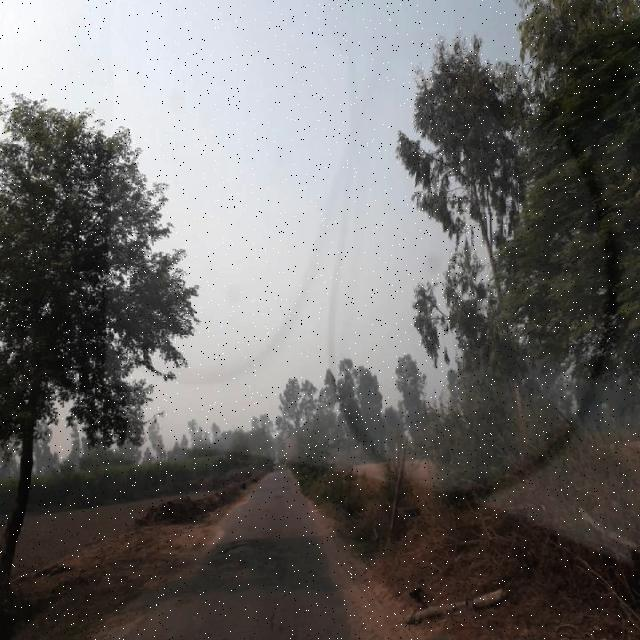D40: (216, 533, 255, 568), (253, 602, 286, 633)
